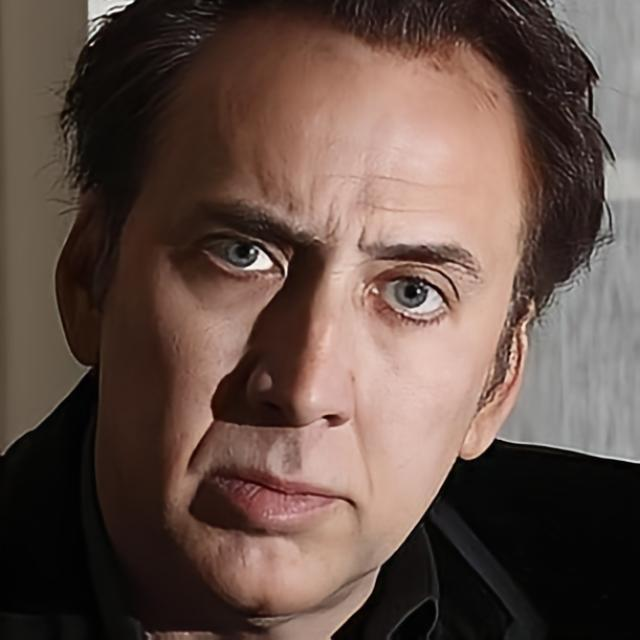anger: (100, 38, 502, 620)
